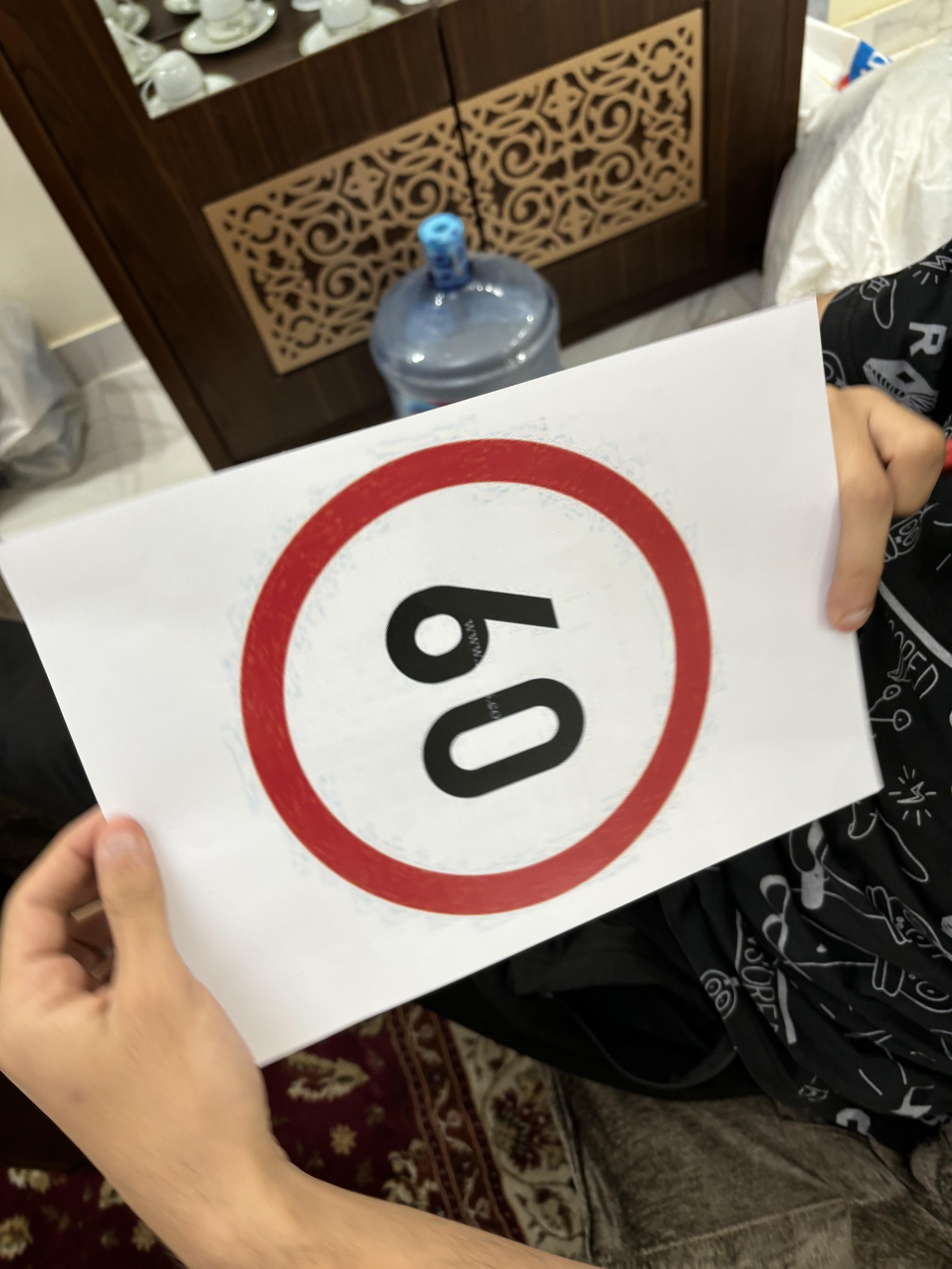60-Speed: (229, 447, 740, 913)
